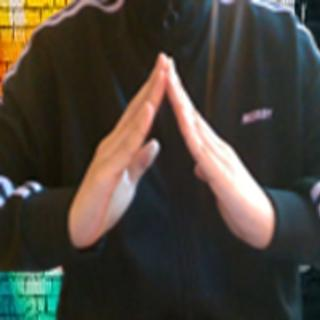HOME: (64, 50, 274, 249)
